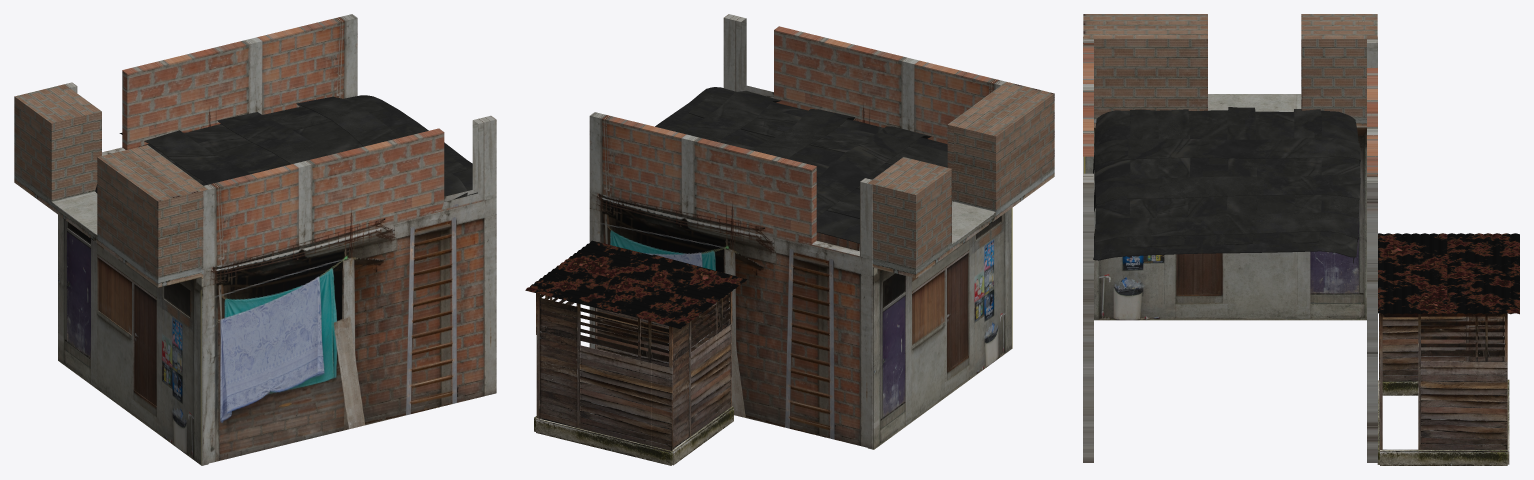
File: casa_izquierda_15.fbx
The picture shows the model from 3 angles, left to right: view 1: azimuth 30°, elevation 25°; view 2: azimuth 150°, elevation 25°; view 3: azimuth 270°, elevation 25°; orthographic projection. The views are drawn at different scales.
Visible parts, largest first — view 1: casa-_izquierda_15B.001, casa_izquierda_15A.001, casa-_izquierda_15B.002, Techo_11.002; view 2: casa-_izquierda_15B.002, casa_izquierda_15A.001, casa_derecho_18A.006, casa-_izquierda_15B.001, Techo_11.002, Techo_13.004, casa_derecho_18A.008, casa_derecho_18A.007; view 3: casa_izquierda_15A.001, Techo_11.002, casa_derecho_18A.005, Techo_13.004, casa_derecho_18A.008, casa-_izquierda_15B.002, casa-_izquierda_15B.001.
Part boxes in pixels (<box>): casa-_izquierda_15B.001: <box>203,115,496,464</box>; casa_izquierda_15A.001: <box>14,84,208,465</box>; casa-_izquierda_15B.002: <box>65,14,357,155</box>; Techo_11.002: <box>95,95,477,199</box>; casa-_izquierda_15B.002: <box>589,112,872,448</box>; casa_izquierda_15A.001: <box>868,81,1054,449</box>; casa_derecho_18A.006: <box>536,293,672,465</box>; casa-_izquierda_15B.001: <box>723,14,1005,251</box>; Techo_11.002: <box>655,87,947,243</box>; Techo_13.004: <box>525,240,747,328</box>; casa_derecho_18A.008: <box>672,291,733,465</box>; casa_derecho_18A.007: <box>597,293,732,406</box>; casa_izquierda_15A.001: <box>1083,14,1377,320</box>; Techo_11.002: <box>1093,107,1360,263</box>; casa_derecho_18A.005: <box>1380,313,1507,465</box>; Techo_13.004: <box>1378,233,1519,314</box>; casa_derecho_18A.008: <box>1379,313,1504,395</box>; casa-_izquierda_15B.002: <box>1367,37,1377,462</box>; casa-_izquierda_15B.001: <box>1083,37,1093,462</box>.
Size of the model in its own units: 782 by 604 by 836.
